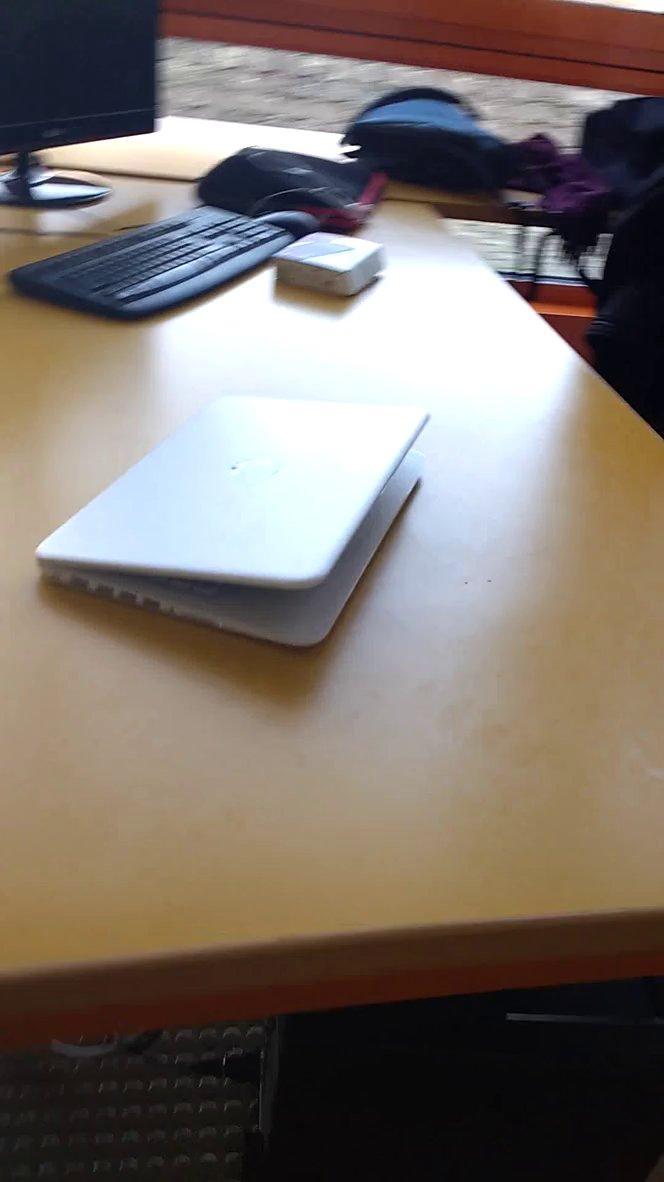laptop: (25, 369, 470, 700)
